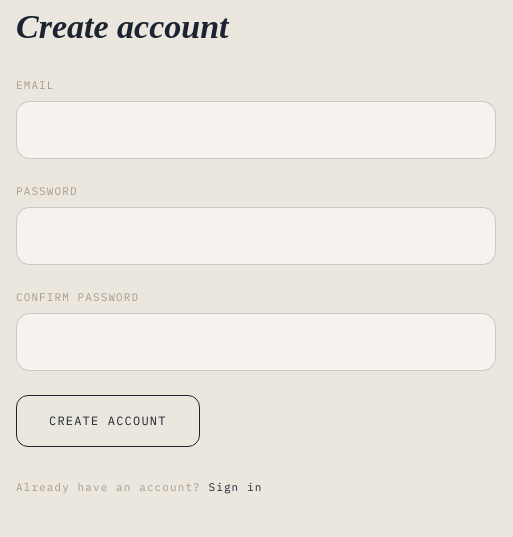
Test: RegisterView › blocks submission and sends no request when the confirmation does not match
The width and height of the screenshot is (513, 537).
In the field with id "email": (256, 130) [16,101,496,159], type "user@example.com"
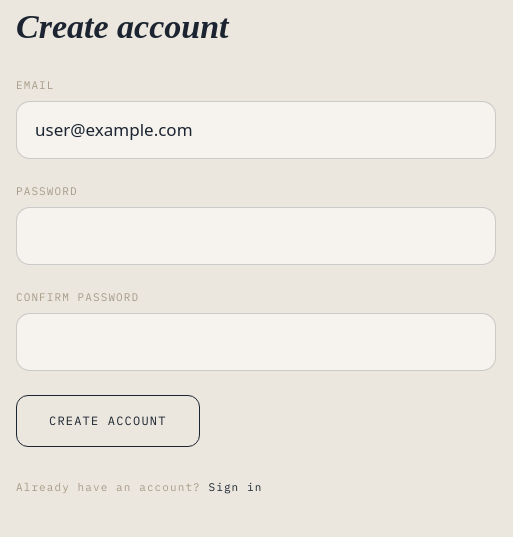
In the password field labelled "Password": (256, 236) [16,207,496,265], type "password123"
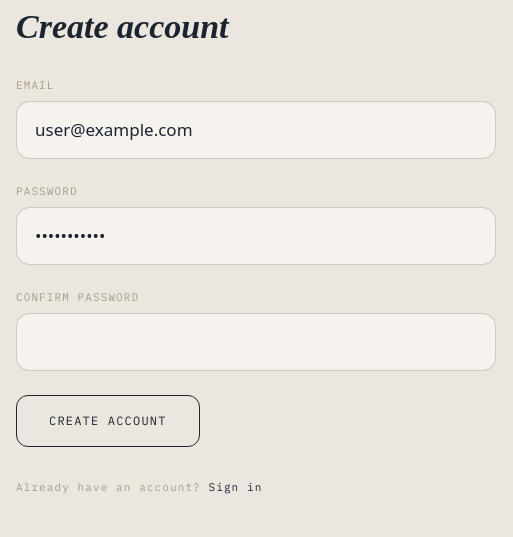
In the password field with id "confirmPassword": (256, 342) [16,313,496,371], type "password124"
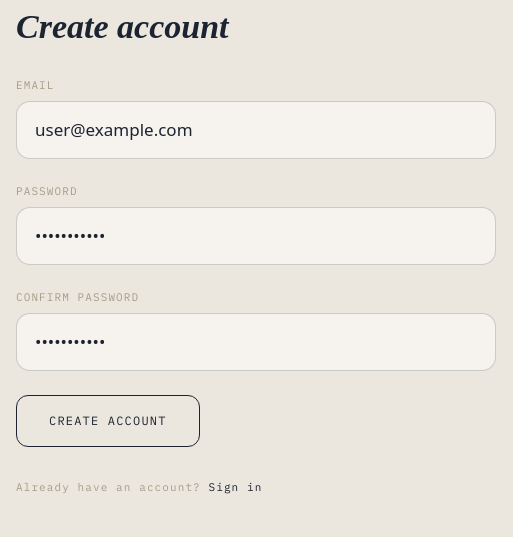
Submit the form
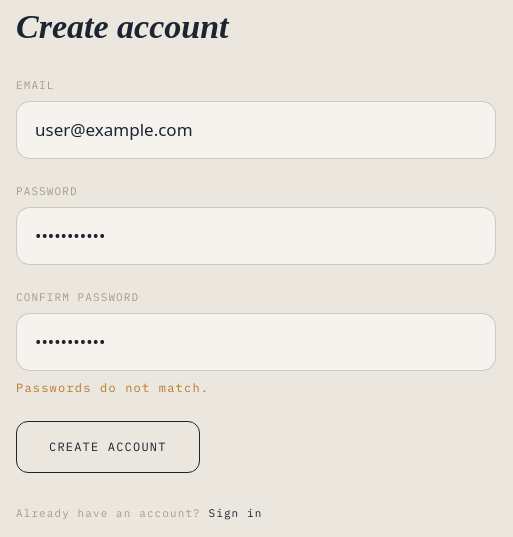
Now the text "Passwords do not match." is shown, box [16,380,209,395]
